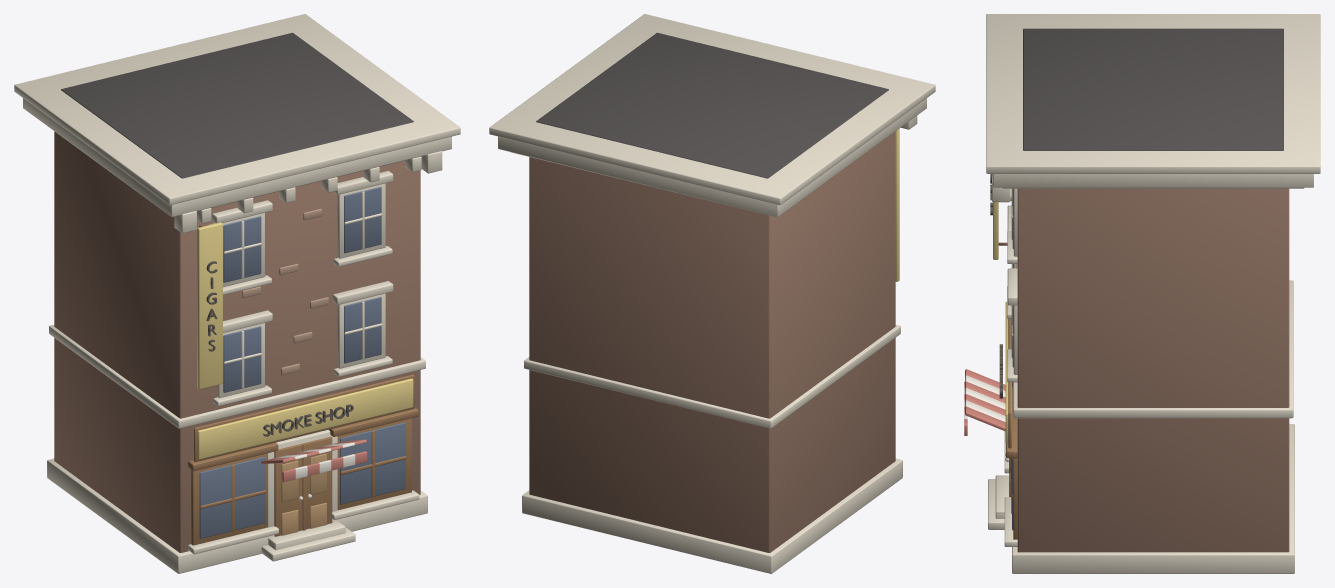
File: edificio_07.glb
3 renders of one model, left to right at view 1: azimuth 30°, elevation 25°; view 2: azimuth 150°, elevation 25°; view 3: azimuth 270°, elevation 25°, orthographic. The views are drawn at different scales.
Visible parts, largest first — view 1: corpo, tetto, cornicione_corona, insegna_h, zoccolo, cornicione_fascia, vetrina_vetro_L, fascia_pt, insegna_v, vetrina_vetro_R, fin_p1_0_vetro, fin_p2_0_vetro (+23 smaller); view 2: corpo, tetto, cornicione_corona, zoccolo, cornicione_fascia, fascia_pt, insegna_v; view 3: corpo, tetto, cornicione_corona, zoccolo, cornicione_fascia, fascia_pt, cornicione_gola, insegna_h, gradino_alto, gradino_basso, vetrina_davanzale_R.
Part boxes in pixels (left/top/right/bottom): corpo: left=54, top=131, right=420, bottom=552; tetto: left=61, top=32, right=413, bottom=178; cornicione_corona: left=14, top=14, right=460, bottom=205; insegna_h: left=197, top=378, right=413, bottom=459; zoccolo: left=47, top=458, right=427, bottom=573; cornicione_fascia: left=23, top=98, right=451, bottom=217; vetrina_vetro_L: left=199, top=456, right=265, bottom=538; fascia_pt: left=49, top=325, right=425, bottom=428; insegna_v: left=197, top=222, right=222, bottom=389; vetrina_vetro_R: left=340, top=422, right=405, bottom=504; fin_p1_0_vetro: left=223, top=326, right=261, bottom=392; fin_p2_0_vetro: left=223, top=216, right=261, bottom=282; corpo: left=529, top=131, right=895, bottom=552; tetto: left=536, top=32, right=888, bottom=178; cornicione_corona: left=489, top=14, right=935, bottom=205; zoccolo: left=522, top=458, right=902, bottom=573; cornicione_fascia: left=498, top=98, right=926, bottom=217; fascia_pt: left=524, top=325, right=900, bottom=428; insegna_v: left=895, top=128, right=899, bottom=281; corpo: left=1017, top=188, right=1289, bottom=552; tetto: left=1023, top=28, right=1283, bottom=150; cornicione_corona: left=986, top=14, right=1320, bottom=173; zoccolo: left=1012, top=424, right=1294, bottom=573; cornicione_fascia: left=993, top=174, right=1313, bottom=187; fascia_pt: left=1013, top=280, right=1293, bottom=418; cornicione_gola: left=1003, top=187, right=1303, bottom=188; insegna_h: left=1005, top=301, right=1011, bottom=443; gradino_alto: left=995, top=475, right=1008, bottom=518; gradino_basso: left=988, top=479, right=1004, bottom=529; vetrina_davanzale_R: left=1004, top=497, right=1017, bottom=546.
Size of the model in its own units: 6.65 by 8.52 by 6.56.
